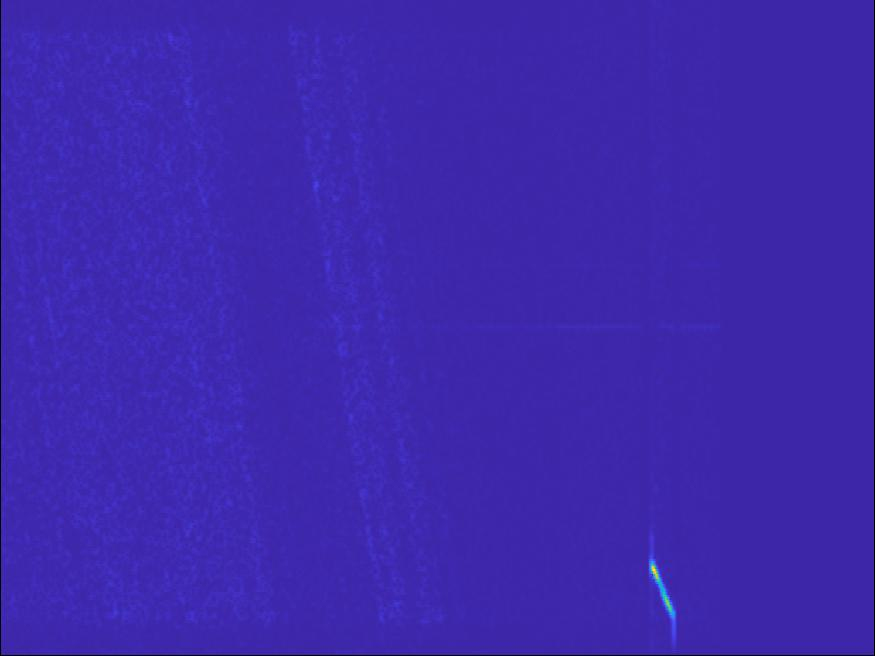Interference: (482, 283, 775, 364)
